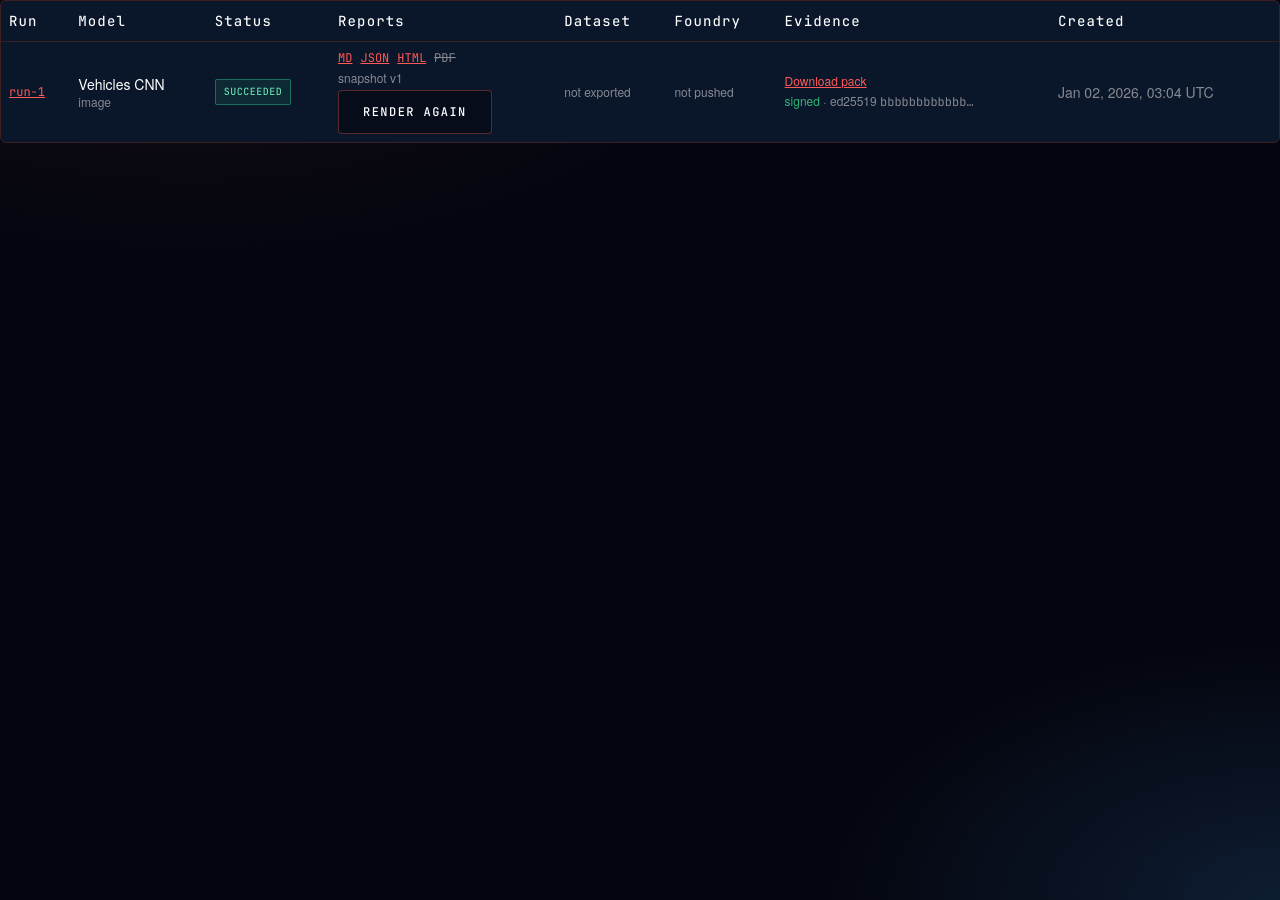
Test: ExportsTable actions › posts a render for a scanner and marks the render in flight from the refetched row
Click the button "Render again": (415, 112) top-left (338, 90), bottom-right (492, 134)
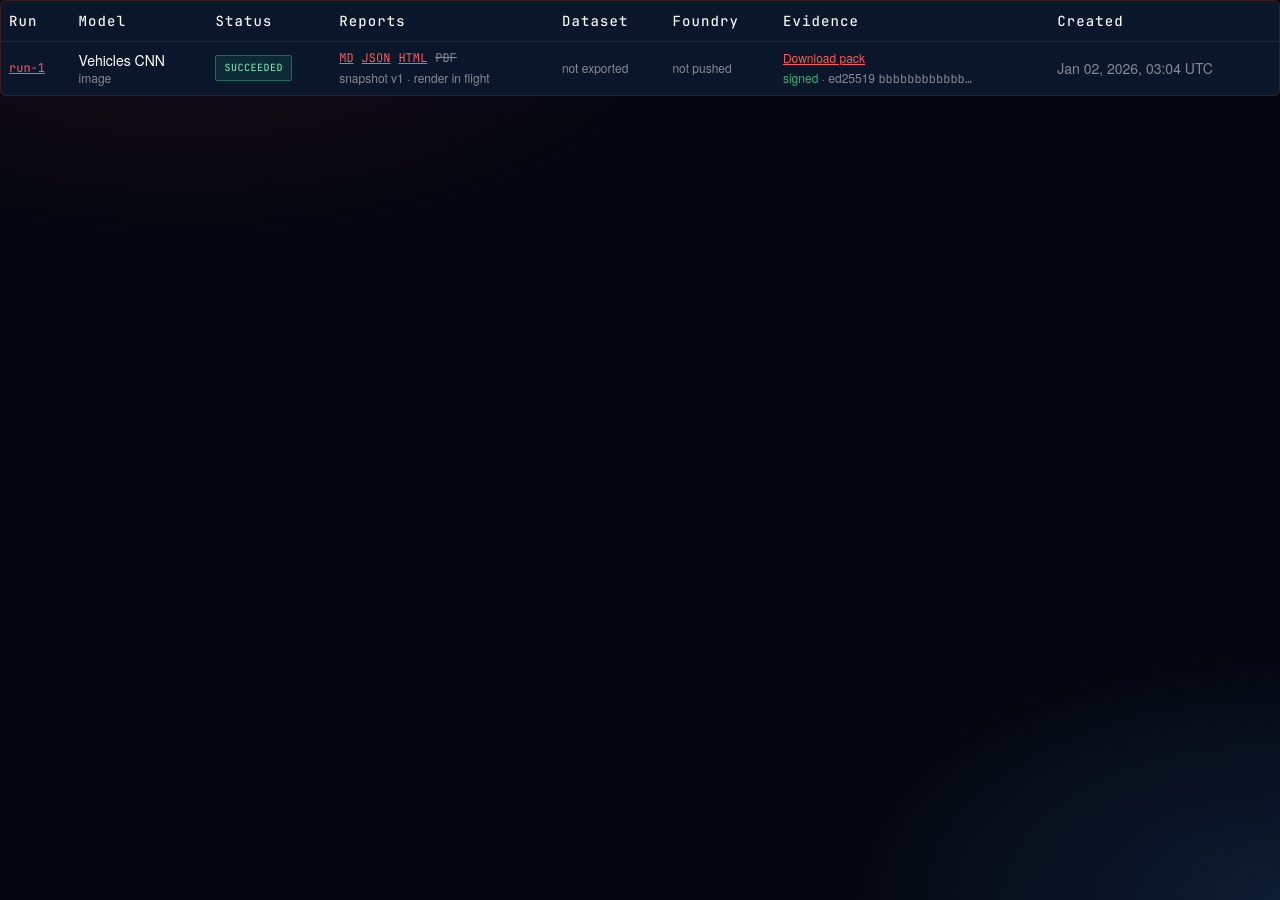
Result: the text "snapshot v1 · render in flight" is shown at top-left (339, 69), bottom-right (490, 86)
Result: the button "Render again" is gone
